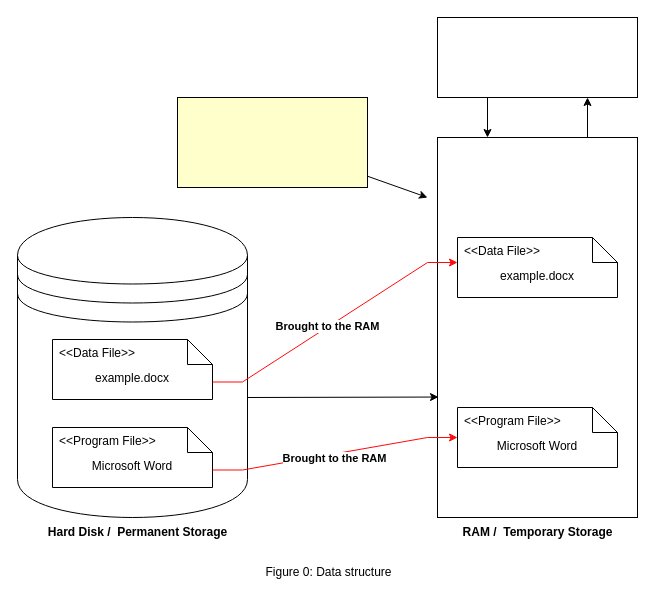
The diagram is 657 pixels wide and 605 high, and some of its shapes have lost their labels. The shapes that lost their labels are listed below. From the top down, each one's box as (x1, y1, x2, y2) in pixels, then its label:
(436, 16, 638, 98): CPU
(176, 96, 368, 188): Data Structure Arranging data in the main memory
